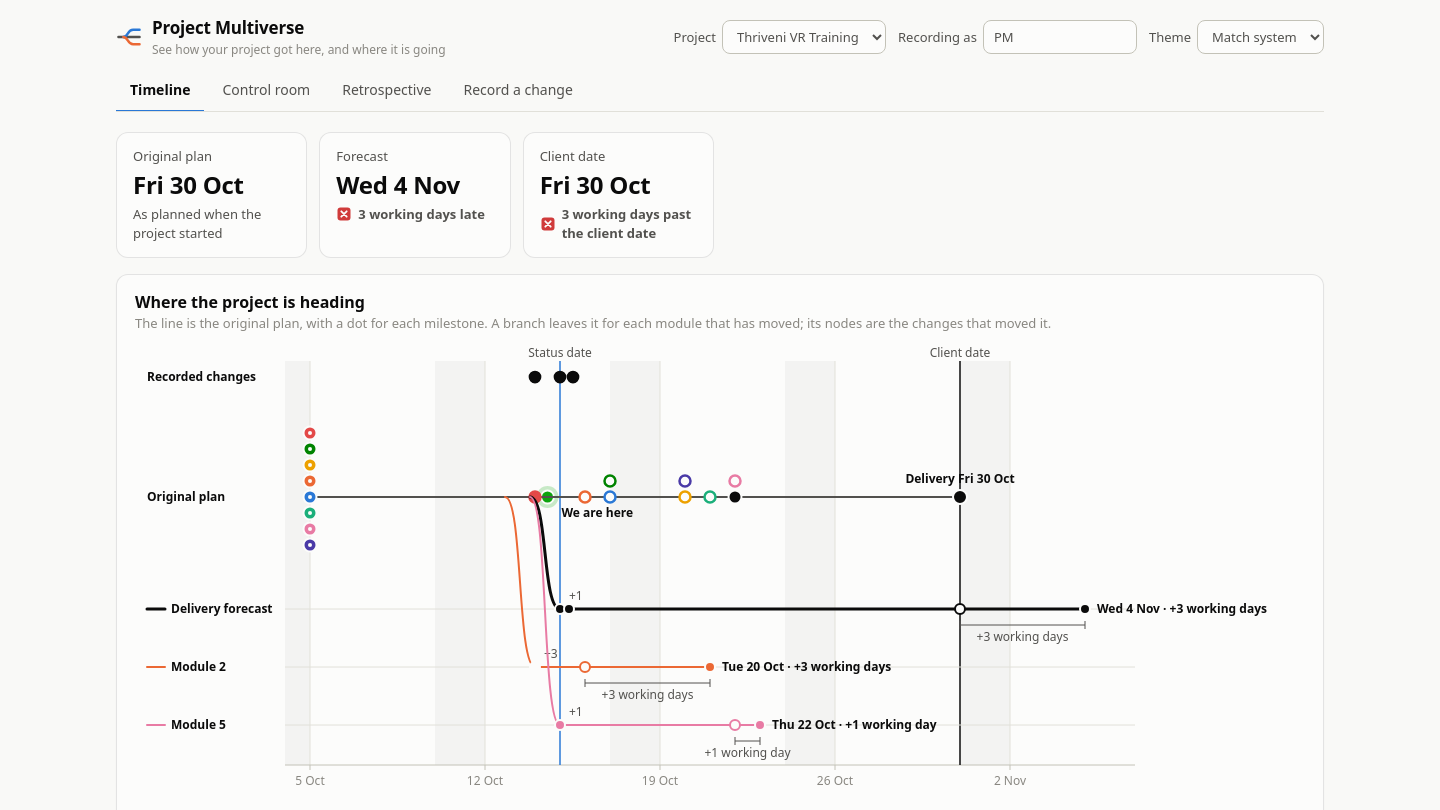
Test: recording a change › will not offer a planning change when every module has started
Click the tab "Record a change" at (518, 91), box [450,70,587,112]
(page scrolled)
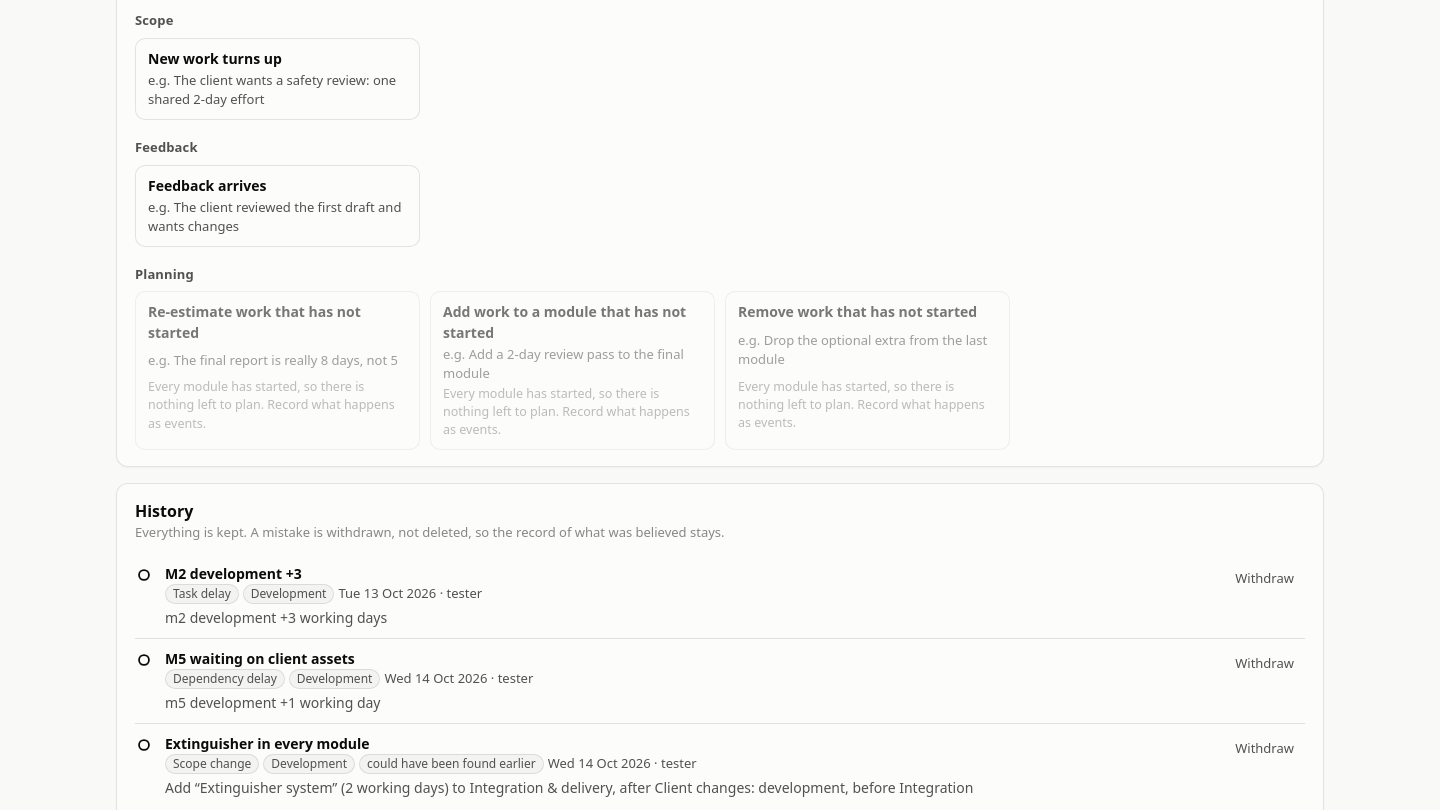
Expected: the button "Re-estimate work that has not started" is disabled, [135,291,420,450]
Expected: the 1st text "nothing left to plan" is shown, [148,378,395,432]
